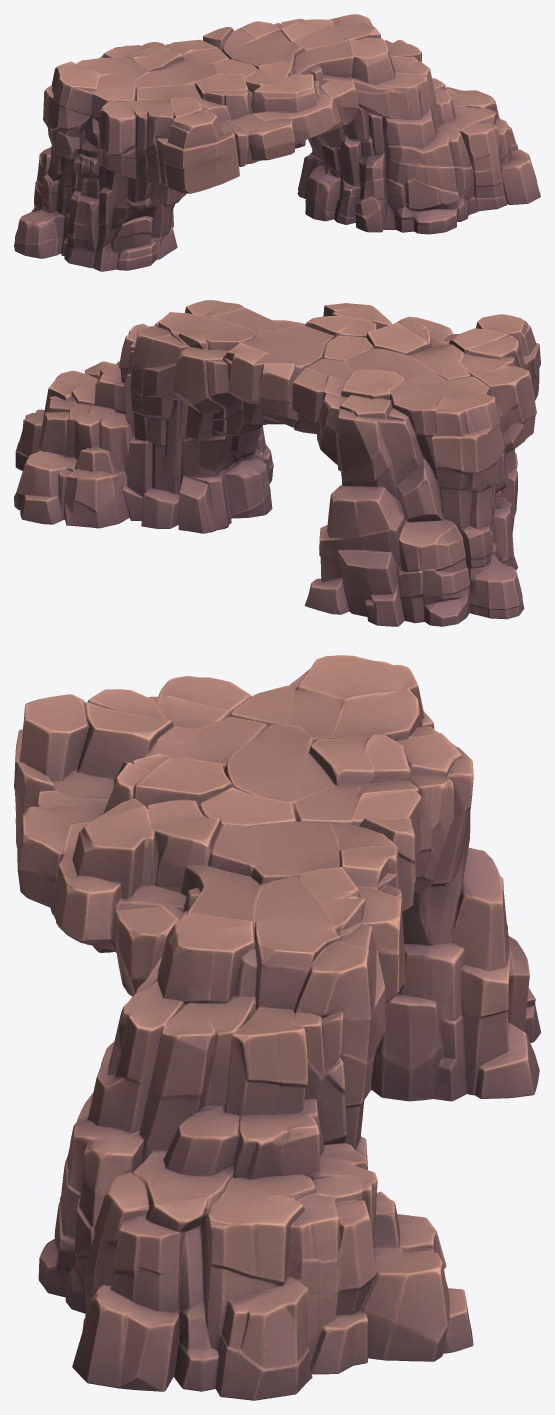
The model's file is 19-cliff-arch.glb.
The picture shows the model from 3 angles, top to bottom: view 1: azimuth 30°, elevation 25°; view 2: azimuth 150°, elevation 25°; view 3: azimuth 270°, elevation 25°; orthographic projection. The views are drawn at different scales.
Bounding box in the file's own units: 1.9 × 0.6637 × 0.9459.
Materials: 1 (1 with a texture image).
